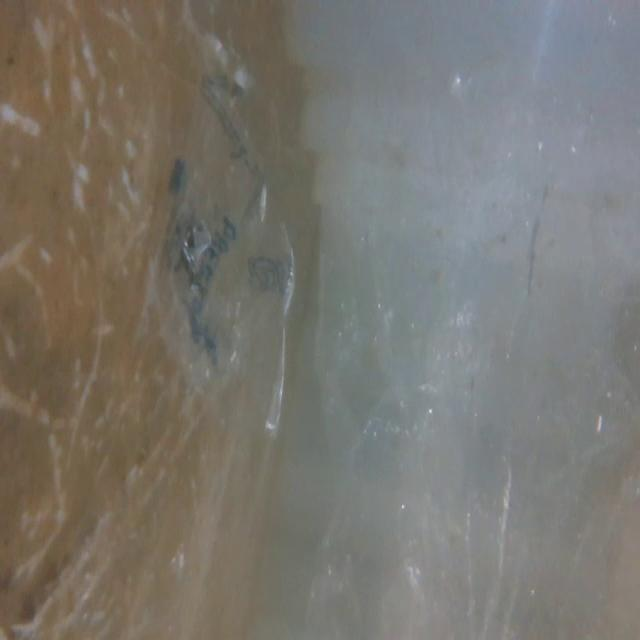plastic bags: (147, 89, 302, 448)
